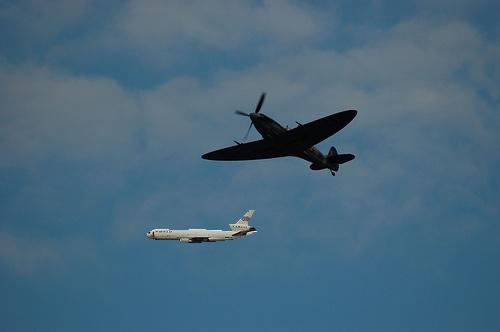tampered: (147, 211, 257, 243)
